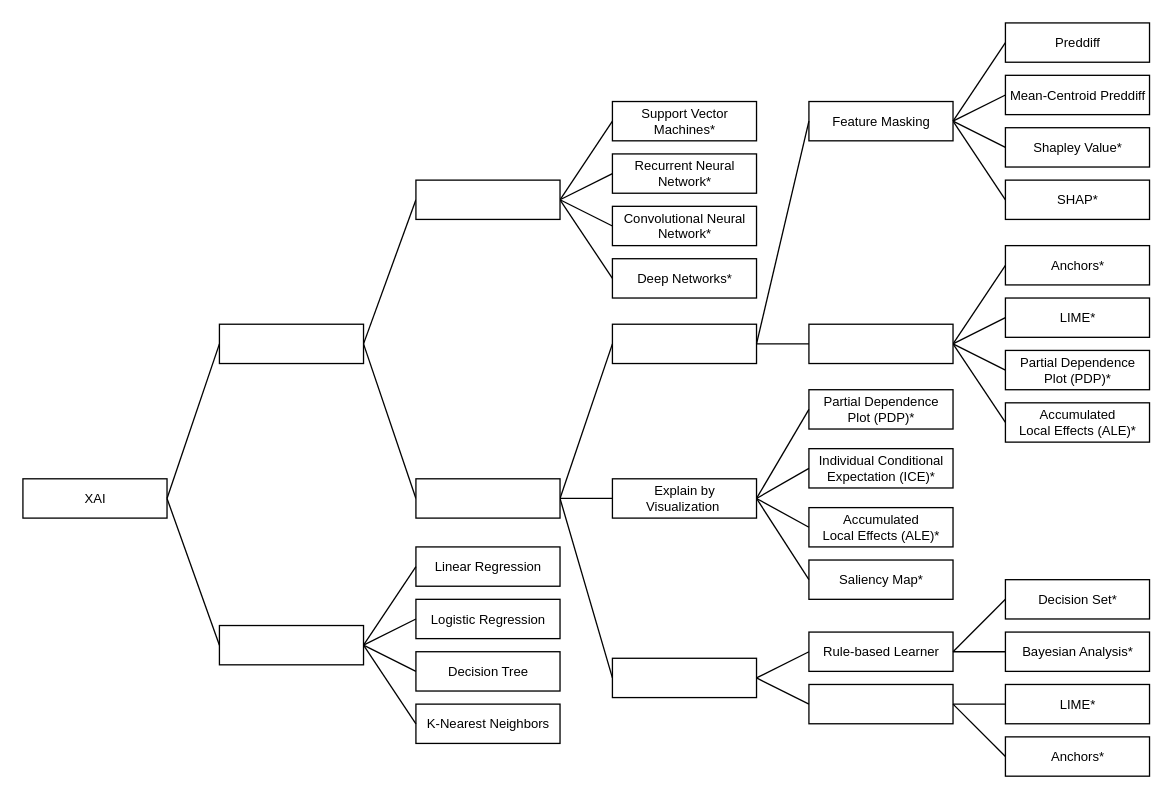
The diagram is 1172 pixels wide and 799 high, and some of its shapes have lost their labels. The centre of each missing label's shape, as x and y in pixels:
Additional Interpretable Model: the point at 880,703
Build Interpretable Model: the point at 291,644
Explain by Feature Importance: the point at 684,343
Explain by Simplification: the point at 684,677
Feature Mutation: the point at 880,343
Model-Agnostic Methods: the point at 487,497
Model-Specific Methods: the point at 487,199
Post-Hoc Explanation: the point at 291,343
